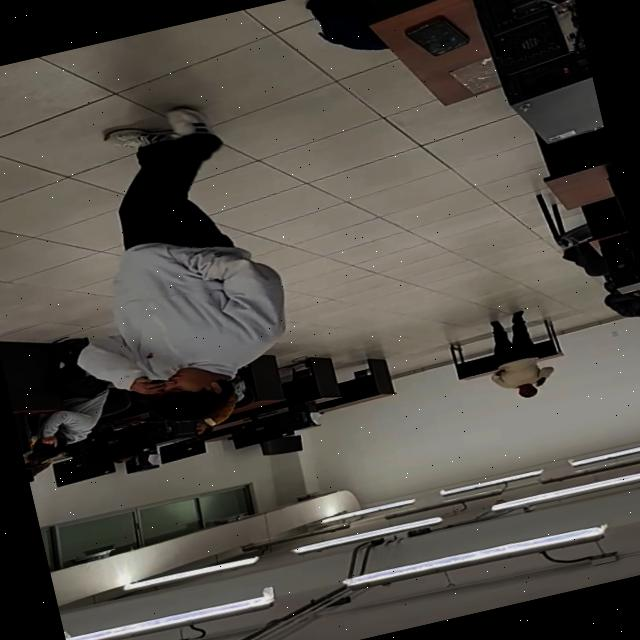Persona: (27, 92, 298, 442), (475, 308, 556, 407)
